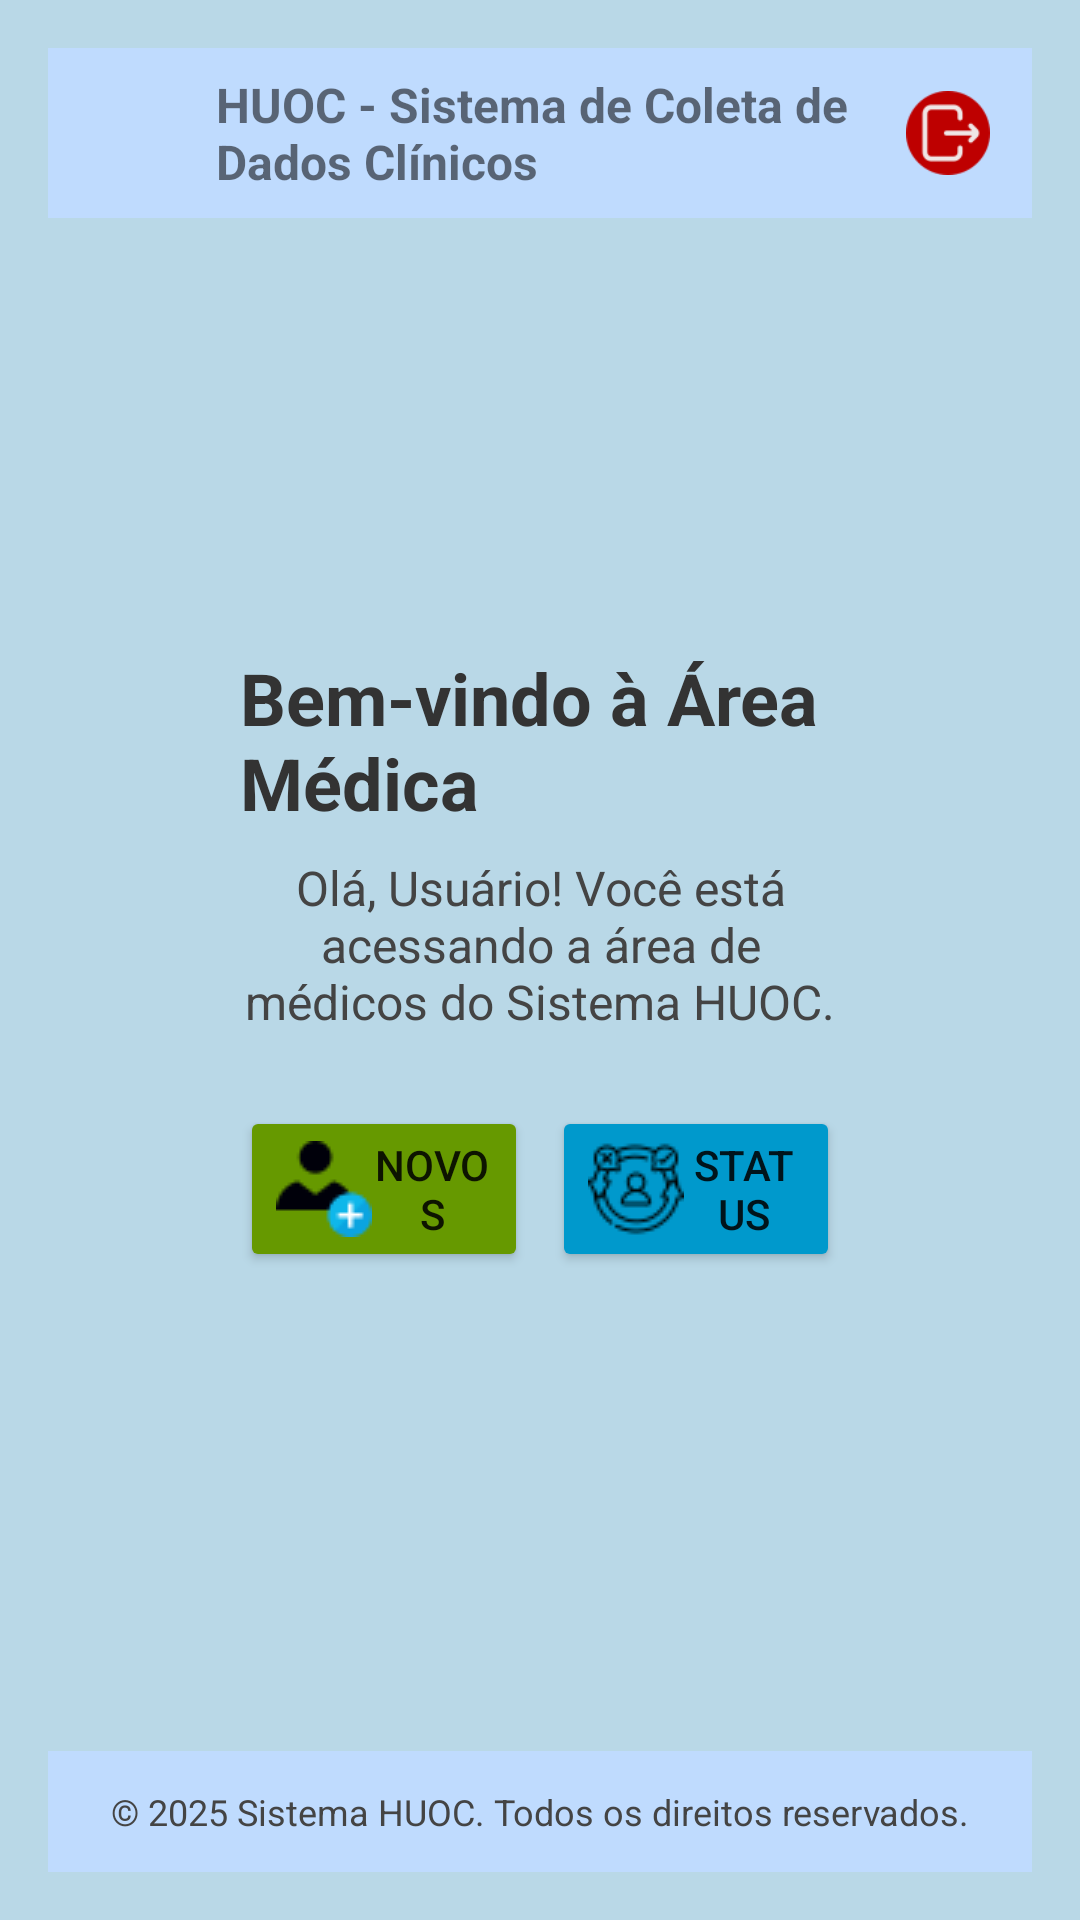

Screen size 1080 x 1920. Icon name, then its center in pixels as (x,y):
Sair: (948,133)
